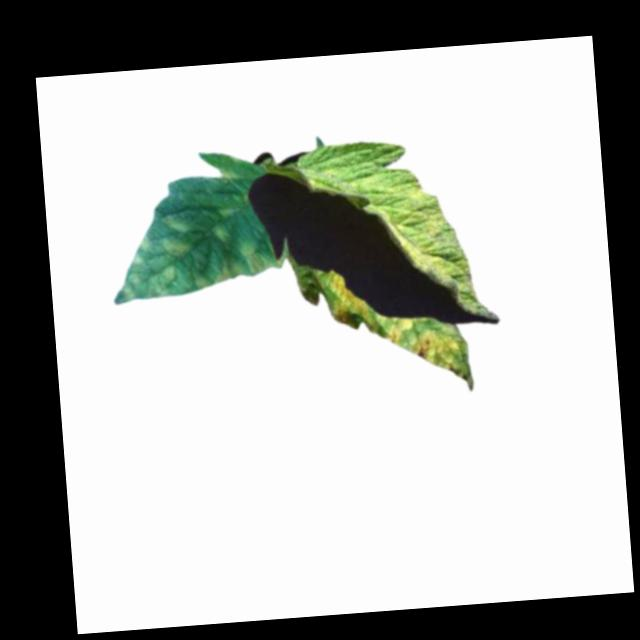Leaf_Mold: (108, 204, 269, 303), (322, 269, 379, 339), (408, 326, 465, 381), (387, 317, 412, 349)
